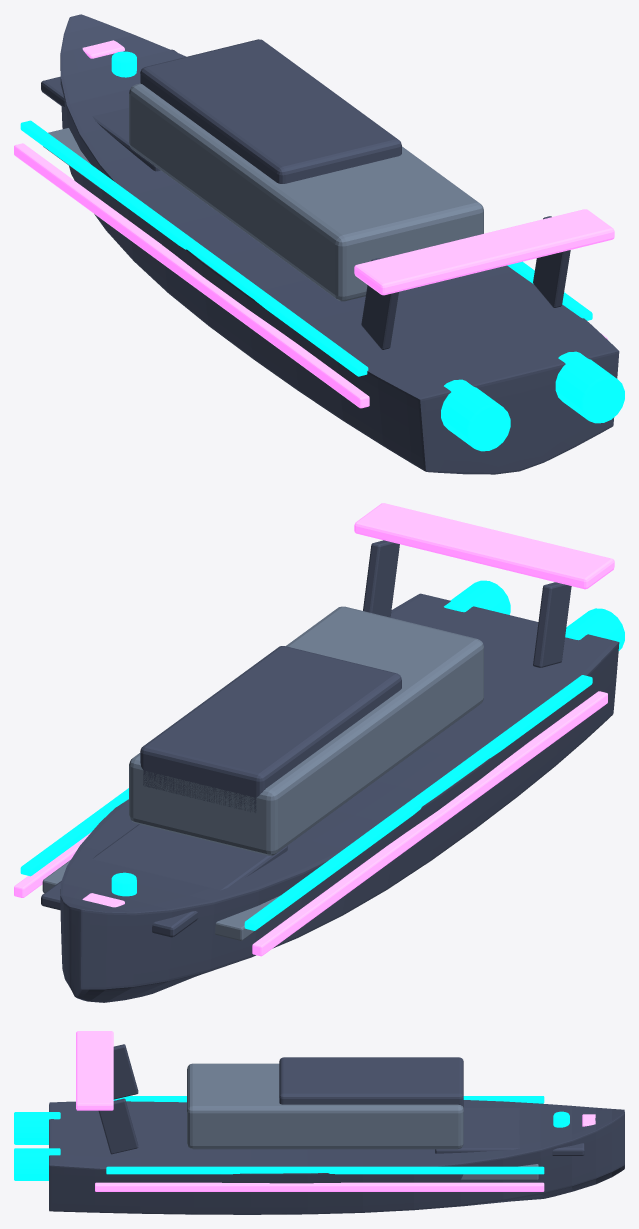
Rendered from boat_speedboat.glb.
3 views of the same model, one above another, from view 1: azimuth 30°, elevation 25°; view 2: azimuth 150°, elevation 25°; view 3: azimuth 270°, elevation 25° (orthographic). The views are drawn at different scales.
Parts seen in each view (by area): view 1: Speedboat_Hull, CockpitCowling, CanopyGlass, AeroFoilWing, Speedboat_NeonRailL, Speedboat_GunwaleTrimL, JetNozzleR, JetNozzleL, WingStrutL, WingStrutR, Speedboat_ForeDeck, Speedboat_GunwaleTrimR; view 2: Speedboat_Hull, CockpitCowling, CanopyGlass, AeroFoilWing, Speedboat_ForeDeck, Speedboat_NeonRailL, Speedboat_GunwaleTrimL, WingStrutL, WingStrutR, Speedboat_GunwaleTrimR, JetNozzleR, JetNozzleL (+2 smaller); view 3: Speedboat_Hull, CockpitCowling, CanopyGlass, Speedboat_NeonRailR, Speedboat_GunwaleTrimR, AeroFoilWing, Speedboat_ForeDeck, WingStrutR, JetNozzleR, JetNozzleL, WingStrutL, Speedboat_GunwaleTrimL (+1 smaller).
Part boxes in pixels (box(x1,y1,x2,y2)): Speedboat_Hull: box(60, 14, 619, 474); CockpitCowling: box(129, 83, 483, 301); CanopyGlass: box(140, 39, 401, 183); AeroFoilWing: box(354, 209, 614, 295); Speedboat_NeonRailL: box(14, 143, 369, 408); Speedboat_GunwaleTrimL: box(20, 120, 368, 376); JetNozzleR: box(555, 351, 624, 423); JetNozzleL: box(441, 379, 510, 451); WingStrutL: box(361, 258, 398, 349); WingStrutR: box(533, 216, 570, 307); Speedboat_ForeDeck: box(41, 49, 177, 171); Speedboat_GunwaleTrimR: box(507, 261, 592, 320); Speedboat_Hull: box(60, 593, 619, 1002); CockpitCowling: box(129, 606, 483, 855); CanopyGlass: box(140, 646, 401, 812); AeroFoilWing: box(354, 503, 614, 589); Speedboat_ForeDeck: box(41, 824, 287, 937); Speedboat_NeonRailL: box(252, 691, 607, 956); Speedboat_GunwaleTrimL: box(244, 675, 592, 930); WingStrutL: box(533, 582, 571, 667); WingStrutR: box(363, 540, 399, 617); Speedboat_GunwaleTrimR: box(20, 788, 128, 876); JetNozzleR: box(444, 580, 510, 614); JetNozzleL: box(565, 608, 624, 650); Speedboat_Hull: box(49, 1100, 624, 1214); CockpitCowling: box(187, 1063, 463, 1149); CanopyGlass: box(279, 1057, 463, 1107); Speedboat_NeonRailR: box(95, 1182, 544, 1191); Speedboat_GunwaleTrimR: box(106, 1166, 544, 1174); AeroFoilWing: box(76, 1031, 113, 1110); Speedboat_ForeDeck: box(435, 1108, 584, 1155); WingStrutR: box(98, 1098, 138, 1154); JetNozzleR: box(14, 1148, 60, 1180); JetNozzleL: box(14, 1112, 60, 1144); WingStrutL: box(113, 1044, 138, 1099); Speedboat_GunwaleTrimL: box(113, 1096, 544, 1103).
Bounding box in the file's own units: 2.71 × 2.22 × 8.91.
